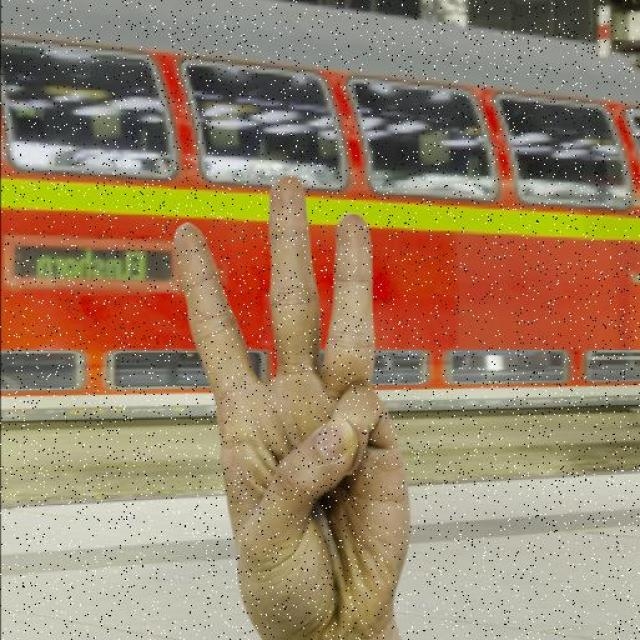W: (170, 172, 419, 640)
